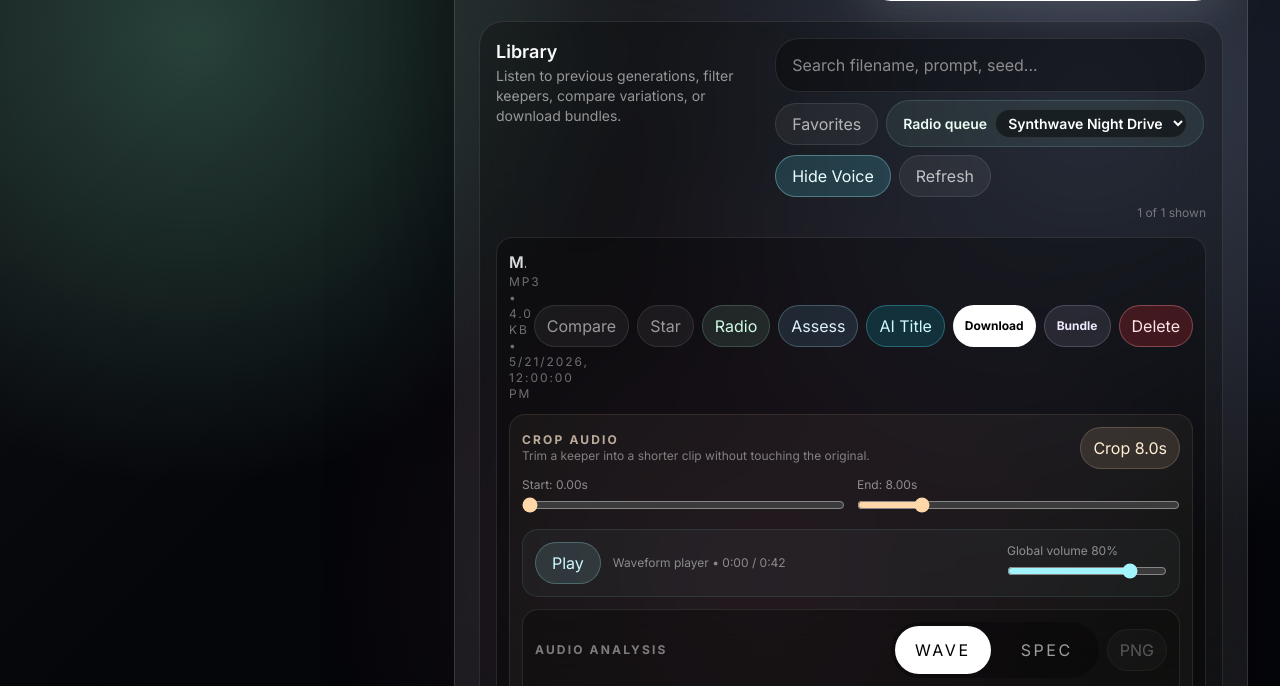
Test: main page radio lineup action › adds an mp3 library song to the radio lineup with its saved prompt metadata
(page scrolled)
Click the button with aria-label "Add Midnight Arcade to radio lineup" at (736, 326), box [702,305,770,347]
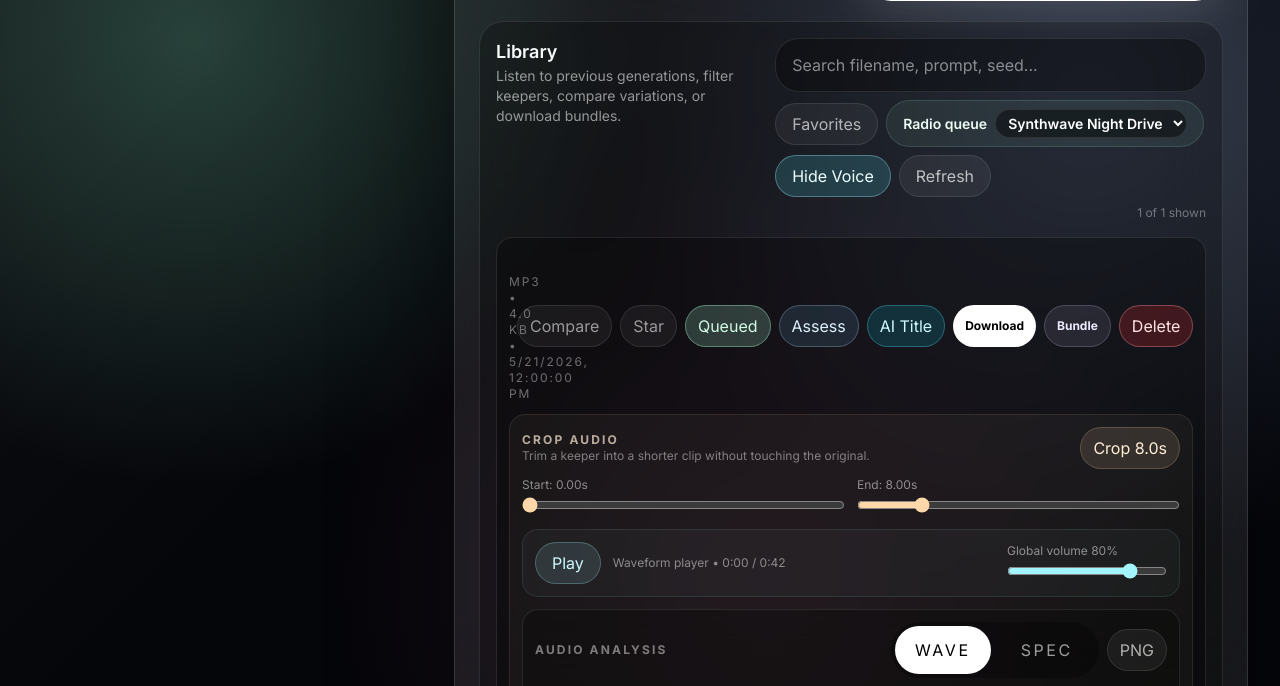
Result: the button with aria-label "Midnight Arcade queued for radio" is disabled at [685,305,770,347]
